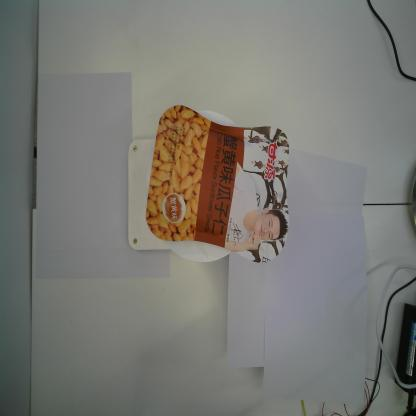Dried Fruit: (144, 102, 290, 264)
